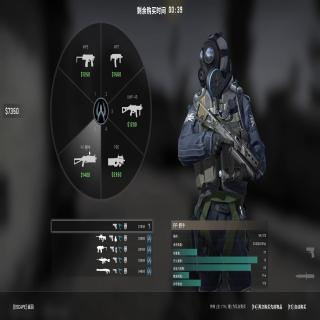CT-Body: (178, 31, 266, 220)
CT-Head: (198, 32, 229, 87)
